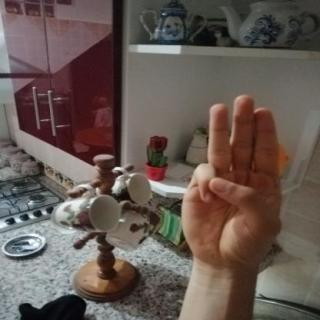THA: (168, 86, 294, 272)
